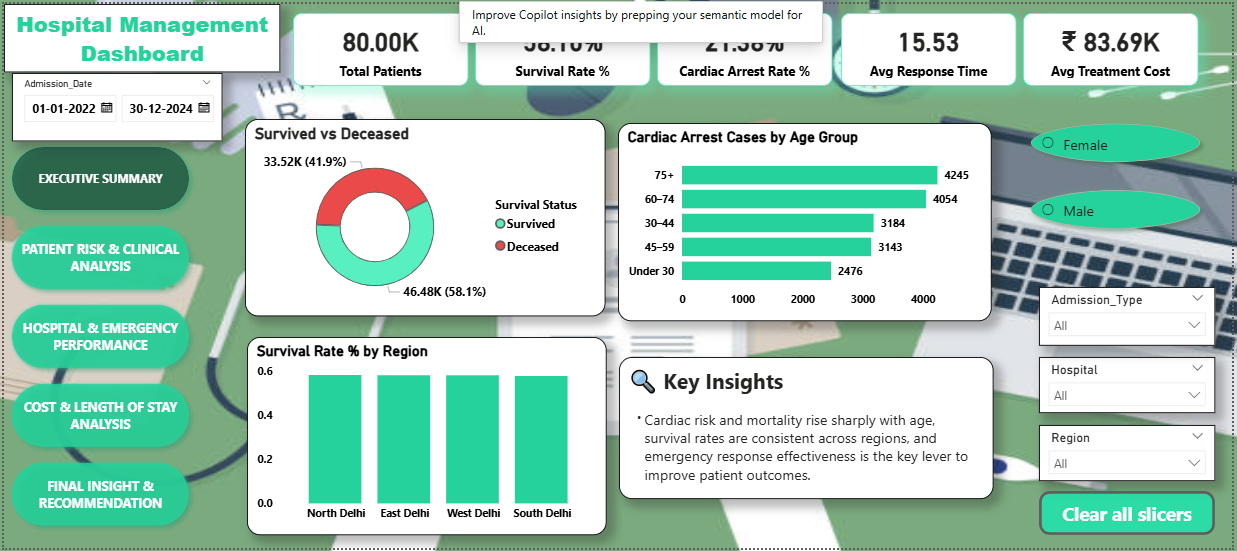

The dashboard page shown, as its layout file describes it:
{"tool":"powerbi","page":{"name":"EXECUTIVE SUMMARY","canvas":[1400,620],"ordinal":1},"visuals":[{"type":"pageNavigator","box":[0,153.9,220,451.5],"z":0},{"type":"textbox","box":[0,0,315,78.4],"z":1000},{"type":"card","fields":{"Values":["cardiac_arrest_prediction_data.Total Patients"]},"box":[329.5,10.3,199.5,83.2],"z":2000},{"type":"card","fields":{"Values":["cardiac_arrest_prediction_data.Survival Rate %"]},"box":[537,10.3,199.5,83.2],"z":3000},{"type":"card","fields":{"Values":["cardiac_arrest_prediction_data.Cardiac Arrest Rate %"]},"box":[744.5,10.3,199.5,83.2],"z":4000},{"type":"card","fields":{"Values":["cardiac_arrest_prediction_data.Avg Response Time"]},"box":[954.2,10.3,199.5,83.2],"z":5000},{"type":"card","fields":{"Values":["cardiac_arrest_prediction_data.Avg Treatment Cost"]},"box":[1161.7,10.3,199.5,83.2],"z":6000},{"type":"donutChart","title":"Survived vs Deceased","fields":{"Category":["cardiac_arrest_prediction_data.Survival_Status"],"Y":["CountNonNull(cardiac_arrest_prediction_data.Patient_ID)"]},"box":[275.1,131.1,411.4,225],"z":7000},{"type":"clusteredBarChart","fields":{"Y":["cardiac_arrest_prediction_data.Cardiac Arrest Cases"],"Category":["cardiac_arrest_prediction_data.Age Group"]},"box":[700,135.7,426.4,225.7],"z":8000},{"type":"clusteredColumnChart","fields":{"Y":["cardiac_arrest_prediction_data.Survival Rate %"],"Category":["cardiac_arrest_prediction_data.Region"]},"box":[277,379.6,410.4,225.7],"z":9000},{"type":"slicer","fields":{"Values":["cardiac_arrest_prediction_data.Hospital"]},"box":[1180.2,402.4,200.6,64.3],"z":10000},{"type":"slicer","fields":{"Values":["cardiac_arrest_prediction_data.Admission_Type"]},"box":[1180.2,322.7,200.6,66.9],"z":11000},{"type":"slicer","fields":{"Values":["cardiac_arrest_prediction_data.Admission_Date"]},"box":[9,78.4,240.4,78.4],"z":12000},{"type":"advancedSlicerVisual","fields":{"Values":["cardiac_arrest_prediction_data.Gender"]},"box":[1153.6,99.5,227.1,194.5],"z":13000},{"type":"textbox","box":[700.6,402.4,426.8,162],"z":14000},{"type":"slicer","fields":{"Values":["cardiac_arrest_prediction_data.Region"]},"box":[1180.2,479.5,200.6,64.3],"z":15000},{"type":"actionButton","box":[1180.2,555.4,200.6,50.1],"z":16000}]}

Visuals, with their boxes in screenshot pixels (x1, y1, x2, y2), scaled from the page's 1400x620 canvas onto the 1237x551 screenshot:
pageNavigator: locate(0, 137, 194, 538)
textbox: locate(0, 0, 278, 70)
card - cardiac_arrest_prediction_data.Total Patients: locate(291, 9, 467, 83)
card - cardiac_arrest_prediction_data.Survival Rate %: locate(474, 9, 651, 83)
card - cardiac_arrest_prediction_data.Cardiac Arrest Rate %: locate(658, 9, 834, 83)
card - cardiac_arrest_prediction_data.Avg Response Time: locate(843, 9, 1019, 83)
card - cardiac_arrest_prediction_data.Avg Treatment Cost: locate(1026, 9, 1203, 83)
"Survived vs Deceased" donutChart: locate(243, 117, 607, 316)
clusteredBarChart - cardiac_arrest_prediction_data.Cardiac Arrest Cases x cardiac_arrest_prediction_data.Age Group: locate(618, 121, 995, 321)
clusteredColumnChart - cardiac_arrest_prediction_data.Survival Rate % x cardiac_arrest_prediction_data.Region: locate(245, 337, 607, 538)
slicer - cardiac_arrest_prediction_data.Hospital: locate(1043, 358, 1220, 415)
slicer - cardiac_arrest_prediction_data.Admission_Type: locate(1043, 287, 1220, 346)
slicer - cardiac_arrest_prediction_data.Admission_Date: locate(8, 70, 220, 139)
advancedSlicerVisual - cardiac_arrest_prediction_data.Gender: locate(1019, 88, 1220, 261)
textbox: locate(619, 358, 996, 502)
slicer - cardiac_arrest_prediction_data.Region: locate(1043, 426, 1220, 483)
actionButton: locate(1043, 494, 1220, 538)
